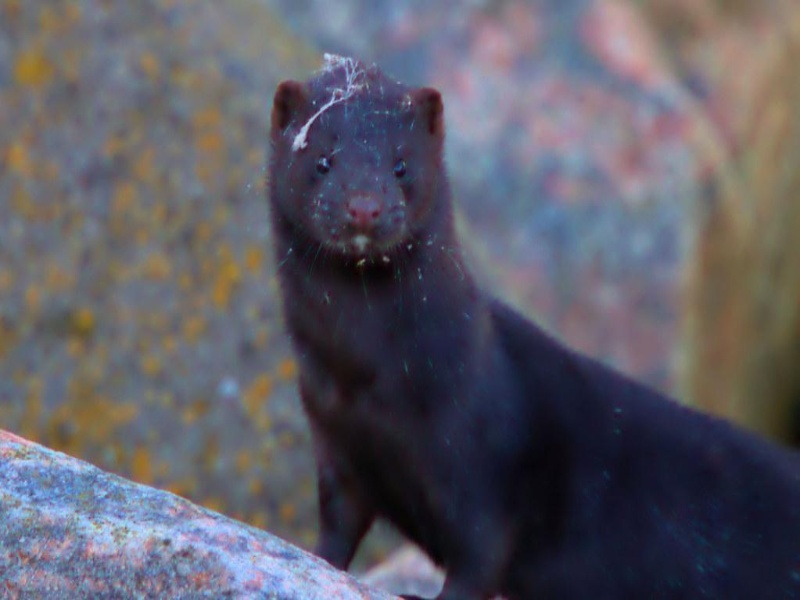minkish: (263, 55, 800, 597)
